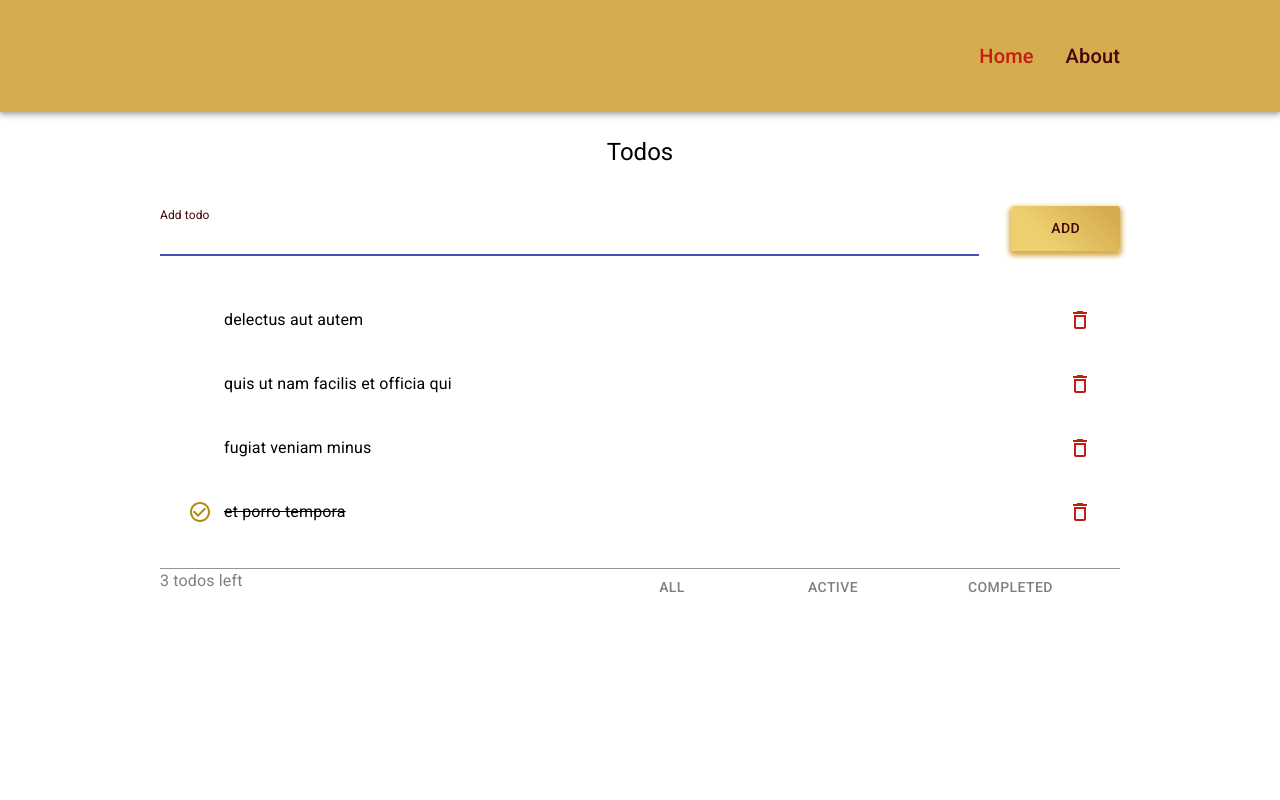
Test: Input form › Form submission › Adds a new todo on submit
Type "Buy eggs" into the field with id "text_field" at (570, 240), box left=160, top=224, right=979, bottom=256
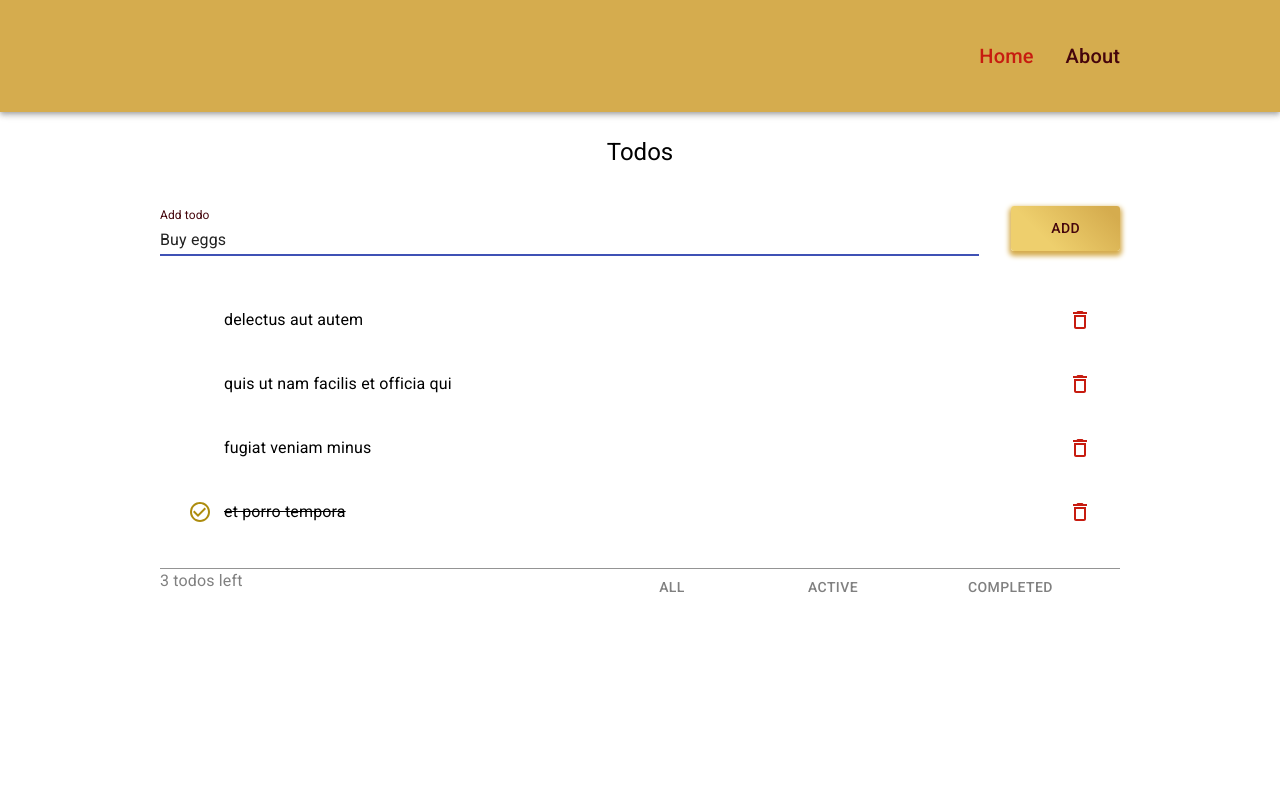
Press Enter in the field with id "text_field", box left=160, top=224, right=979, bottom=256
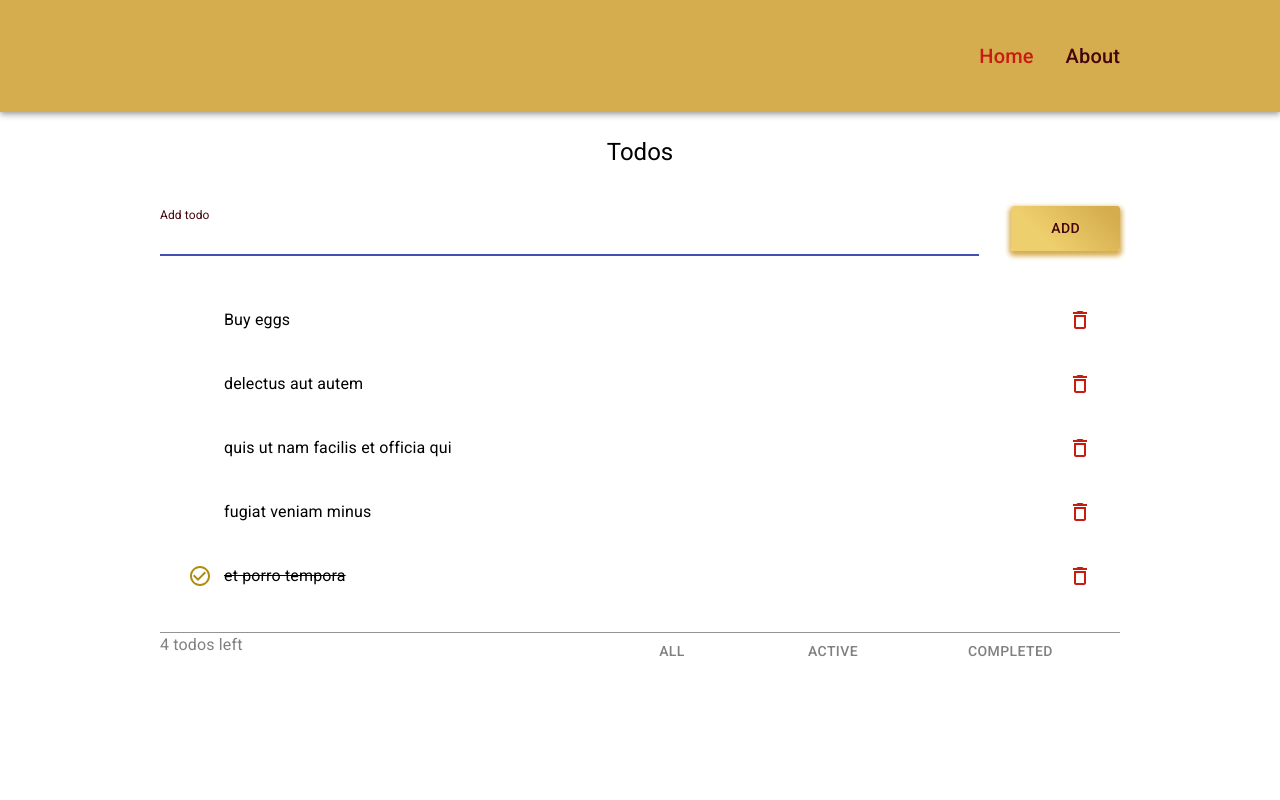
Now the text "Buy eggs" is shown, box left=224, top=310, right=290, bottom=329
